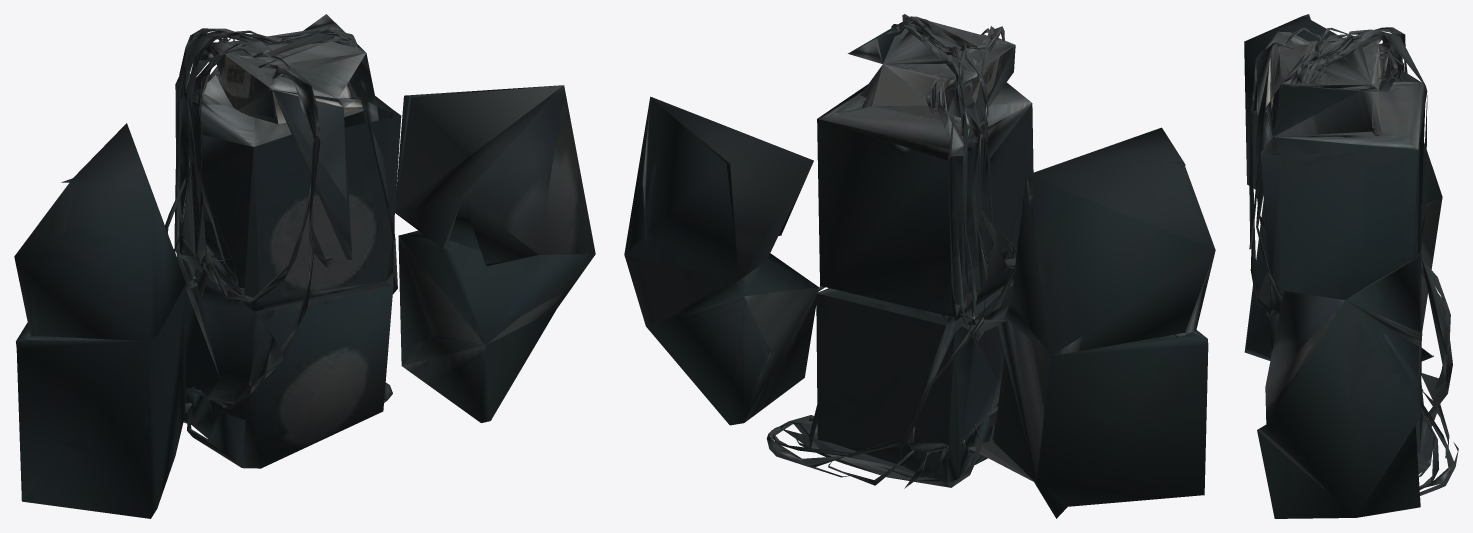
The model's file is fv_speakers.lod1.glb.
The picture shows the model from 3 angles, left to right: view 1: azimuth 30°, elevation 25°; view 2: azimuth 150°, elevation 25°; view 3: azimuth 270°, elevation 25°; orthographic projection. The views are drawn at different scales.
Visible parts, largest first — view 1: fv_speakers; view 2: fv_speakers; view 3: fv_speakers.
Part boxes in pixels (<box>): fv_speakers: <box>14,14,595,518</box>; fv_speakers: <box>624,14,1215,518</box>; fv_speakers: <box>1244,14,1458,518</box>.
Bounding box in the file's own units: 1.83 × 1.3 × 0.6334.
1 material, 1 textured.
